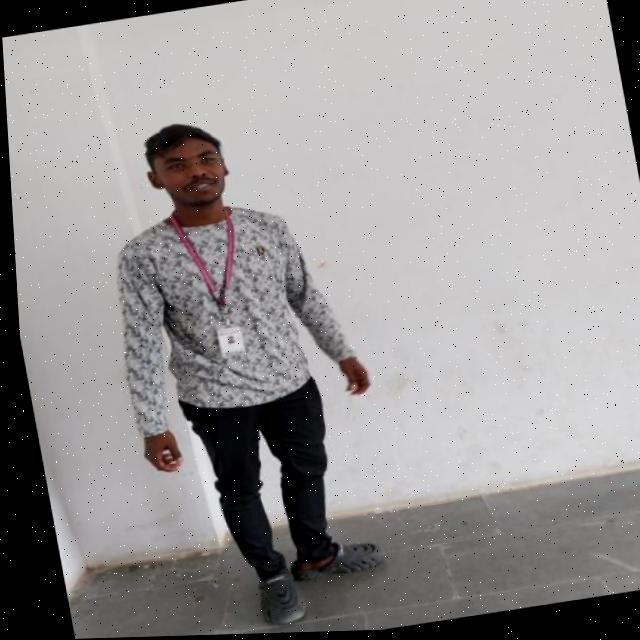id_card: (159, 195, 261, 364)
